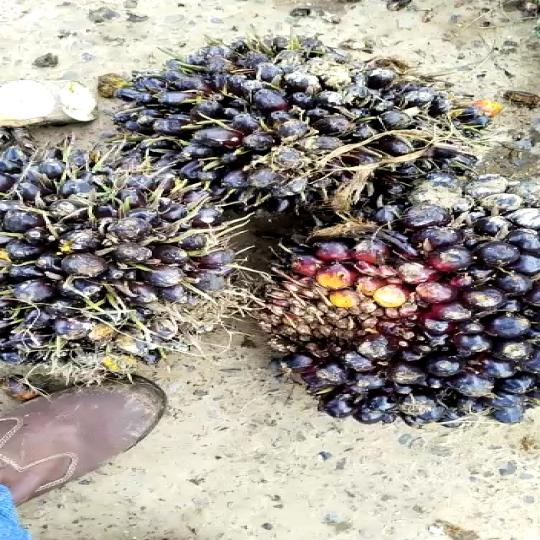mentah: (250, 188, 540, 452), (120, 33, 478, 230), (0, 132, 235, 395)
